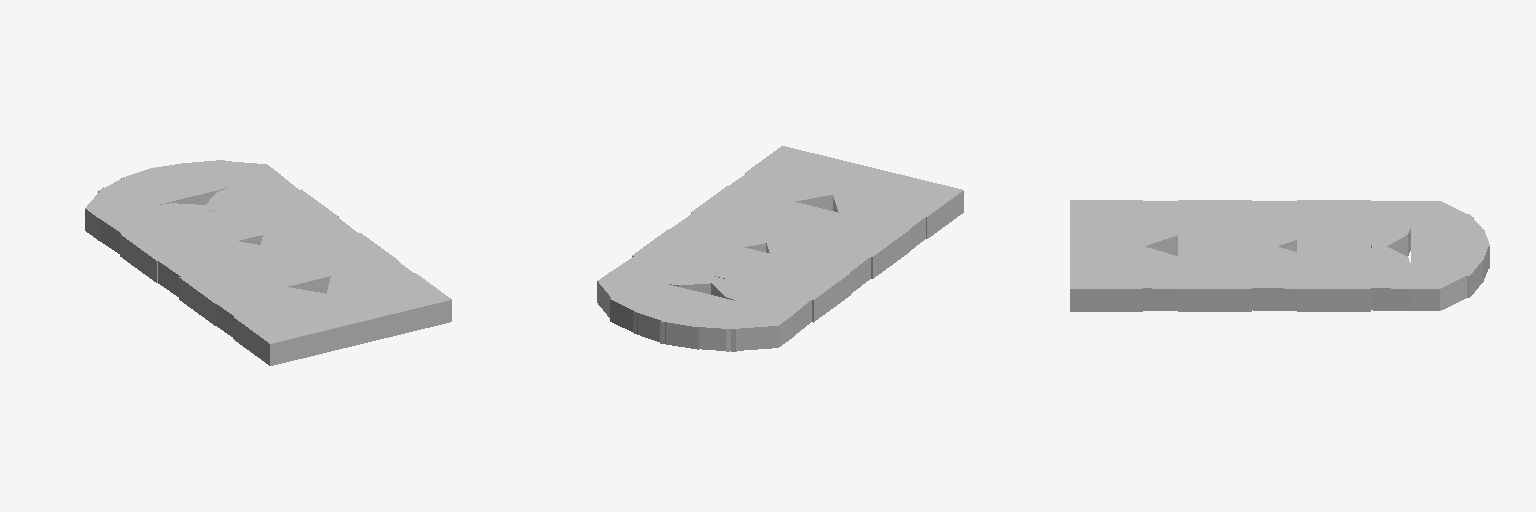
Rendered from DoorExplosion.obj.
3 views of the same model, side by side, from view 1: azimuth 30°, elevation 25°; view 2: azimuth 150°, elevation 25°; view 3: azimuth 270°, elevation 25° (orthographic).
Visible parts, largest first — view 1: pCube2, pCube3, pCube6, pCube9, pCube11, pCube12, pCube14, pCube13, pCube10, pCube17, pCube18, pCube15 (+3 smaller); view 2: pCube2, pCube6, pCube3, pCube12, pCube9, pCube11, pCube14, pCube15, pCube17, pCube13, pCube10, pCube18 (+3 smaller); view 3: pCube3, pCube6, pCube2, pCube11, pCube10, pCube9, pCube12, pCube13, pCube14, pCube20, pCube18, pCube19 (+3 smaller).
Part boxes in pixels (x1,y1,x2,y2): pCube2: (233,273,451,365); pCube3: (179,233,397,325); pCube6: (120,189,338,282); pCube9: (216,287,350,336); pCube11: (258,202,371,255); pCube12: (137,238,270,296); pCube14: (100,203,224,253); pCube13: (203,171,305,211); pCube10: (327,251,412,296); pCube17: (121,167,192,204); pCube18: (155,163,222,204); pCube15: (85,187,134,240); pCube2: (745,146,963,238); pCube6: (632,229,850,322); pCube3: (691,186,909,278); pCube12: (763,232,883,293); pCube9: (829,183,939,250); pCube11: (650,205,775,251); pCube14: (704,275,811,336); pCube15: (726,306,792,351); pCube17: (660,292,729,349); pCube13: (607,257,717,294); pCube10: (716,159,832,210); pCube18: (633,285,698,343); pCube3: (1178,200,1251,311); pCube6: (1297,200,1370,311); pCube2: (1070,200,1142,311); pCube11: (1227,240,1336,310); pCube10: (1105,240,1203,310); pCube9: (1094,201,1203,255); pCube12: (1226,201,1334,252); pCube13: (1363,240,1421,310); pCube14: (1361,201,1420,256); pCube20: (1411,276,1466,310); pCube18: (1411,244,1488,282); pCube19: (1411,261,1481,297).
Bounding box in the file's own units: 2.85 × 0.3333 × 5.7.